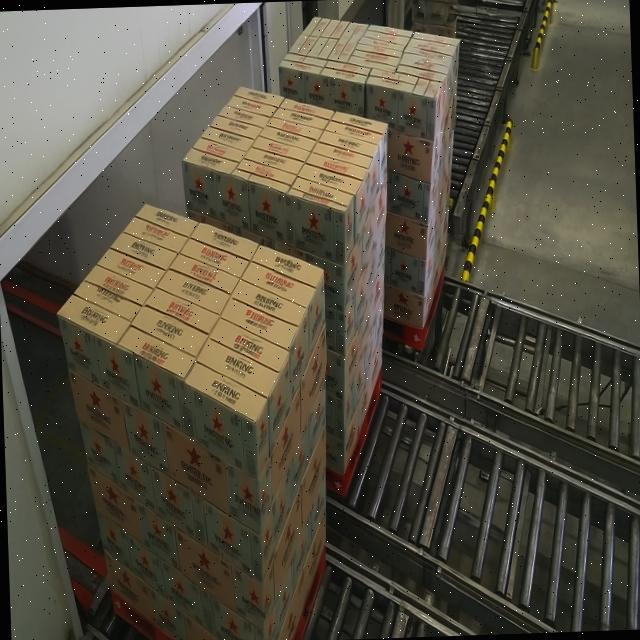pallet: (48, 190, 331, 640), (175, 75, 404, 508), (276, 4, 476, 360)
